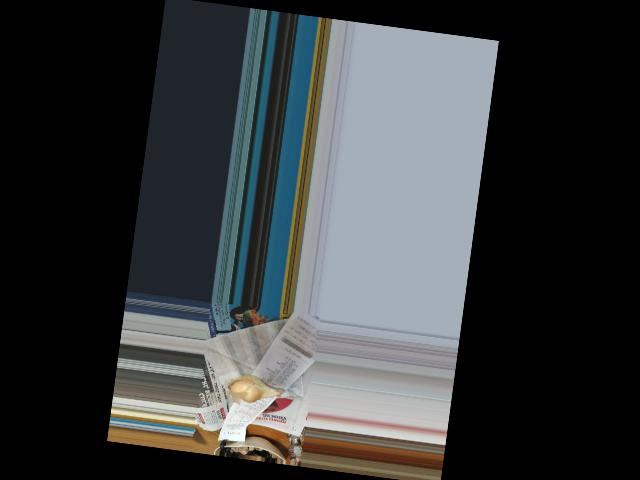onion: (225, 371, 279, 407)
